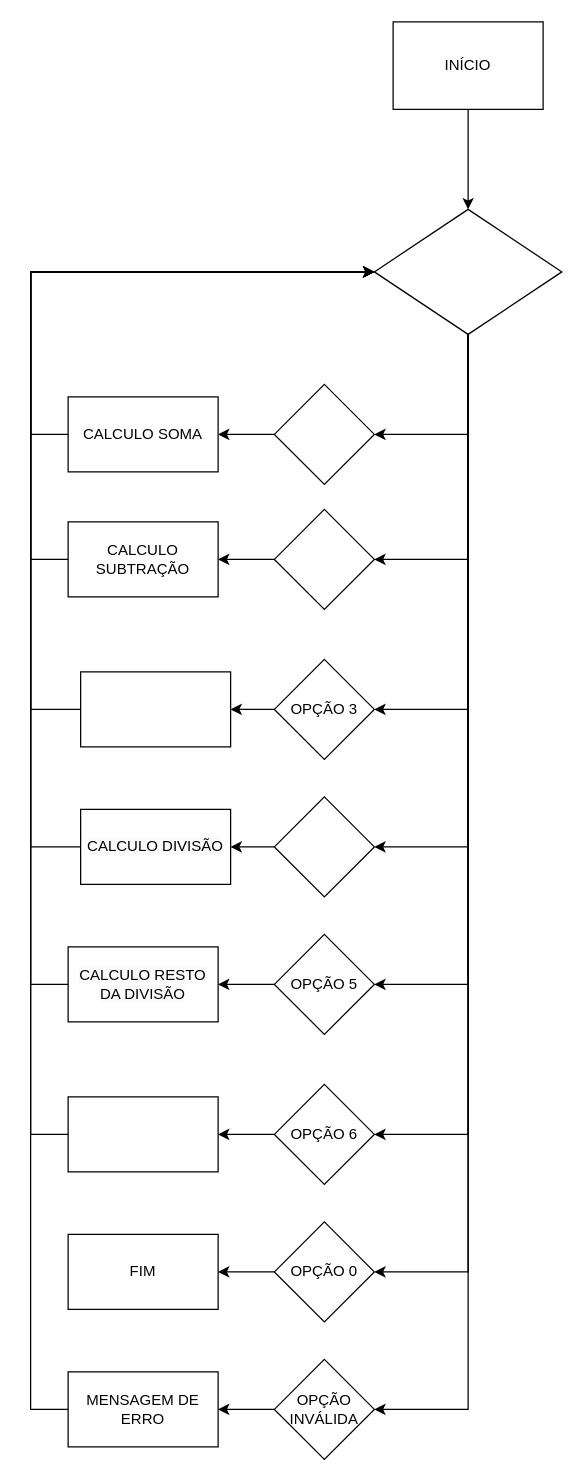
This 584x1481 diagram has some shape labels left out. Here are the shapes that lost their labels. From the top down, the centre of each, then its label:
the point at 467,271: ESCOLHA UMA OPÇÃO:
the point at 323,433: OPÇÃO 1
the point at 323,558: OPÇÃO 2
the point at 155,709: CALCULO MULTIPLICAÇÃO
the point at 323,846: OPÇÃO 4
the point at 142,1134: HISTÓRICO
